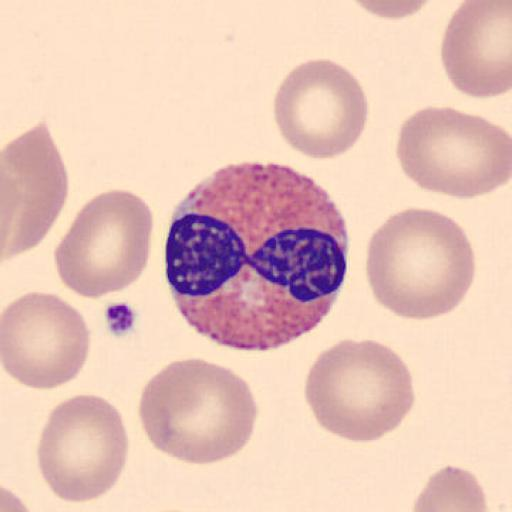RBC: (137, 356, 260, 466), (364, 207, 478, 321), (303, 336, 415, 444), (395, 105, 511, 201), (54, 188, 154, 299), (36, 392, 130, 505), (272, 56, 370, 161), (1, 120, 70, 261), (2, 289, 92, 391), (439, 1, 512, 99), (410, 462, 489, 512), (346, 0, 438, 21), (0, 481, 34, 512)
WBC: (163, 155, 350, 351)
